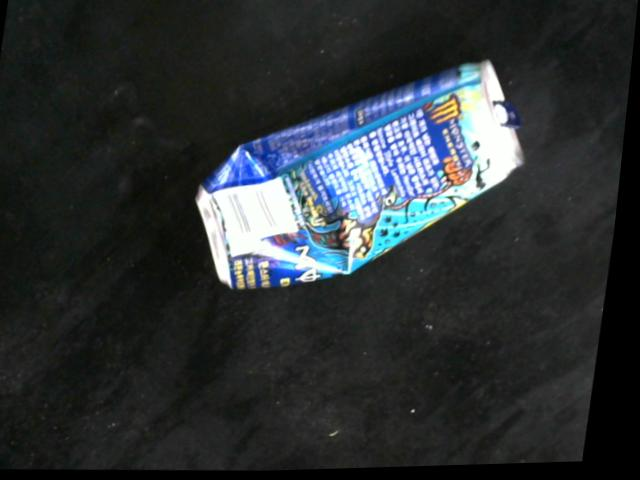can: (196, 60, 535, 296)
